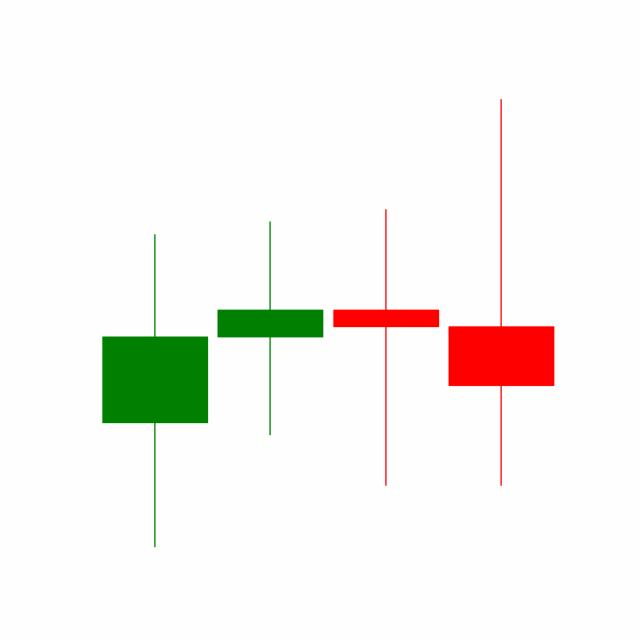Spinning Top: (328, 206, 444, 489)
